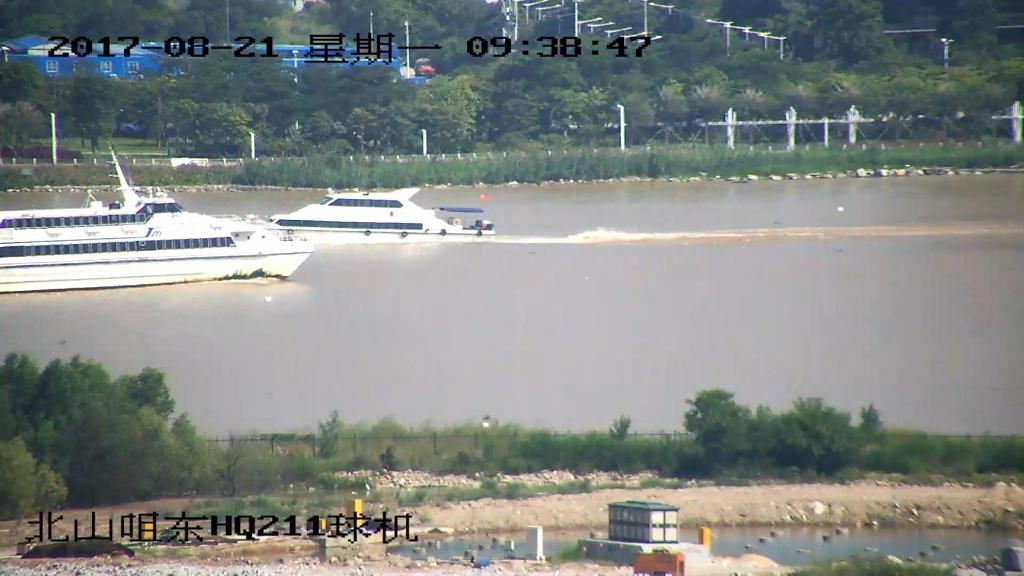PassengerShip: (0, 166, 320, 304), (251, 181, 509, 251)
